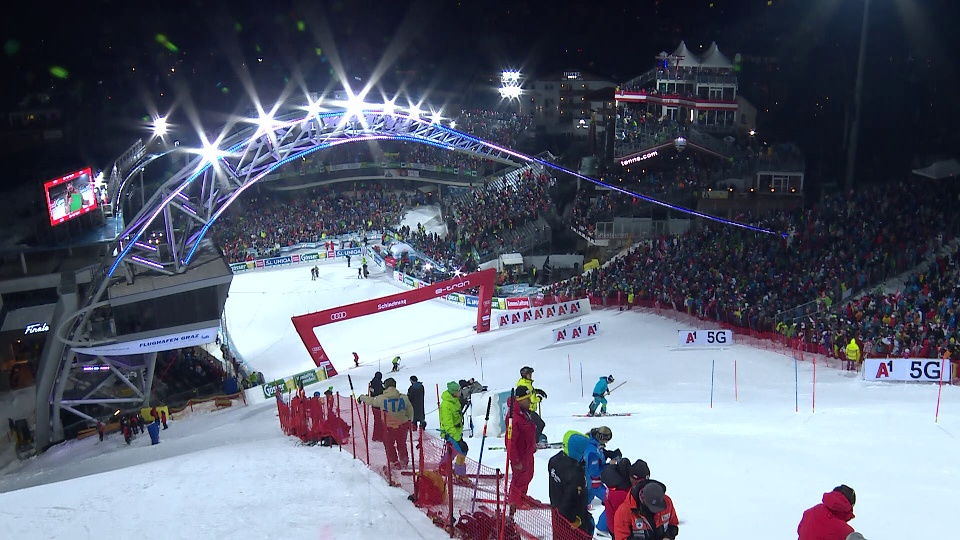5g: (911, 356, 949, 384), (710, 330, 728, 347)
a1: (873, 361, 898, 381), (557, 326, 575, 342), (684, 331, 701, 345), (568, 300, 583, 314), (586, 323, 599, 338), (570, 327, 584, 340), (500, 313, 512, 327)
audi: (327, 310, 353, 324)
etron: (438, 279, 473, 296), (377, 296, 410, 313)
